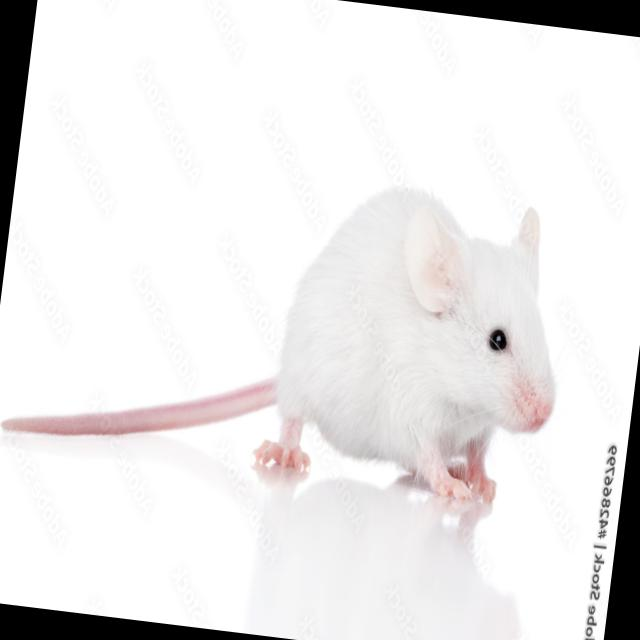rodents: (234, 159, 602, 543)
